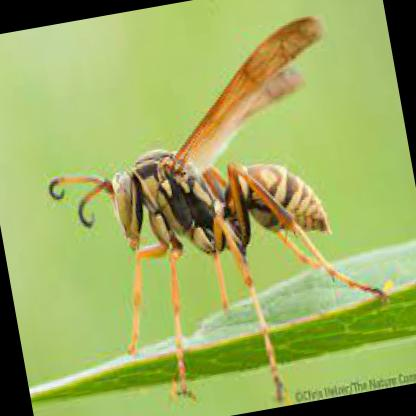other: (44, 13, 387, 412)
